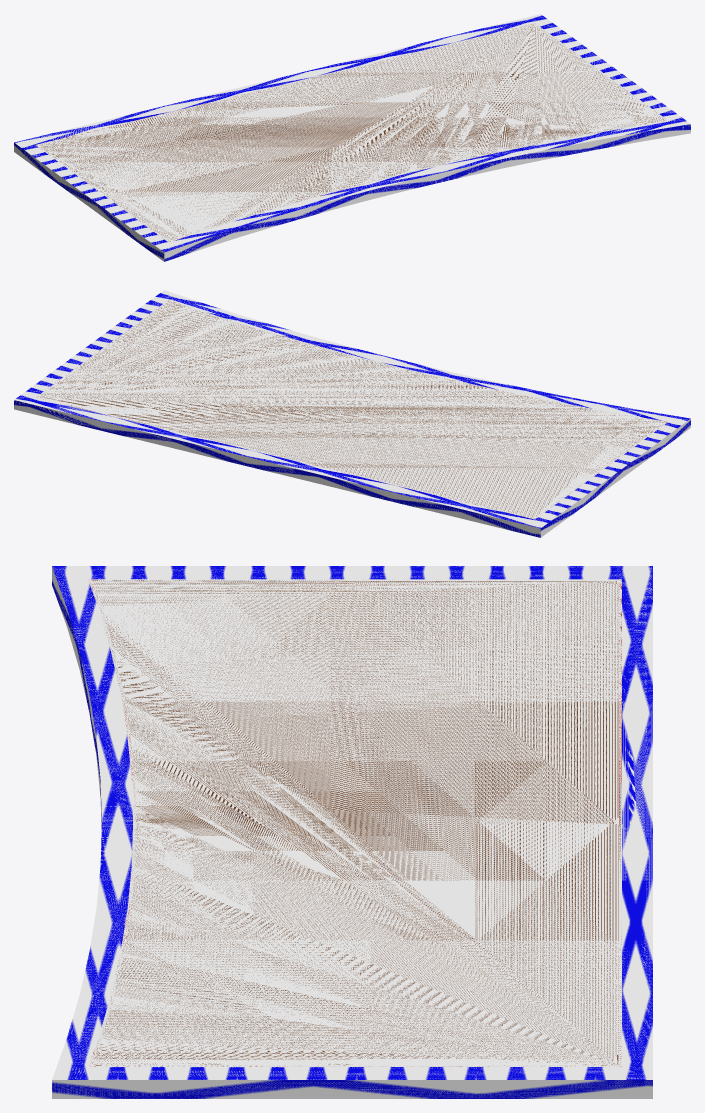
Rendered from original-41.obj.
The picture shows the model from 3 angles, top to bottom: view 1: azimuth 30°, elevation 25°; view 2: azimuth 150°, elevation 25°; view 3: azimuth 270°, elevation 25°; orthographic projection. The views are drawn at different scales.
Visible parts, largest first — view 1: Top1/Top/mesh94/mesh94-geometry#mesh94-geometry; view 2: Top1/Top/mesh94/mesh94-geometry#mesh94-geometry; view 3: Top1/Top/mesh94/mesh94-geometry#mesh94-geometry.
Boxes of the visible parts, bbox=[...] form: Top1/Top/mesh94/mesh94-geometry#mesh94-geometry: bbox=[14, 14, 690, 261]; Top1/Top/mesh94/mesh94-geometry#mesh94-geometry: bbox=[14, 290, 690, 537]; Top1/Top/mesh94/mesh94-geometry#mesh94-geometry: bbox=[52, 566, 652, 1098].
Bounding box in the file's own units: 1.3 × 0.0222 × 0.6447.
